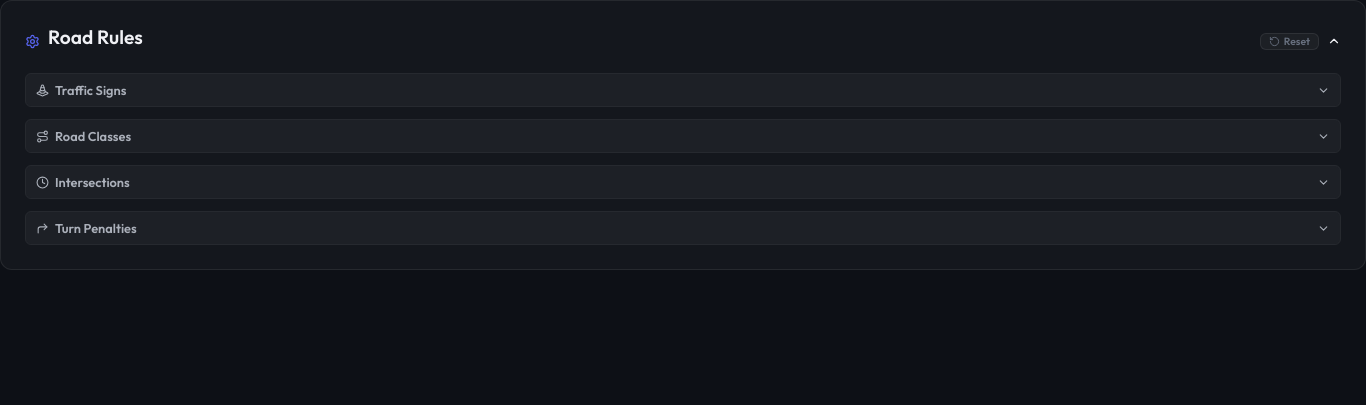
Test case: RulesConfigPanel › reveals intersection delay sliders when intersections toggle is clicked
The image size is (1366, 405).
Check: the button "Traffic Light" is not shown
Click the button "Intersections": (92, 182) [26,166,1340,198]
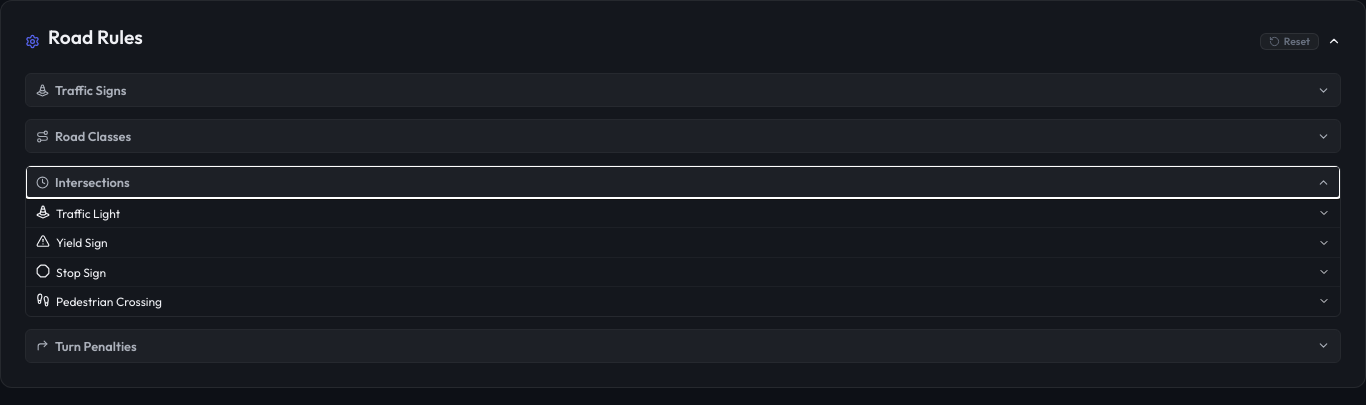
Check: the button "Traffic Light" is shown, box [26,199,1340,227]
